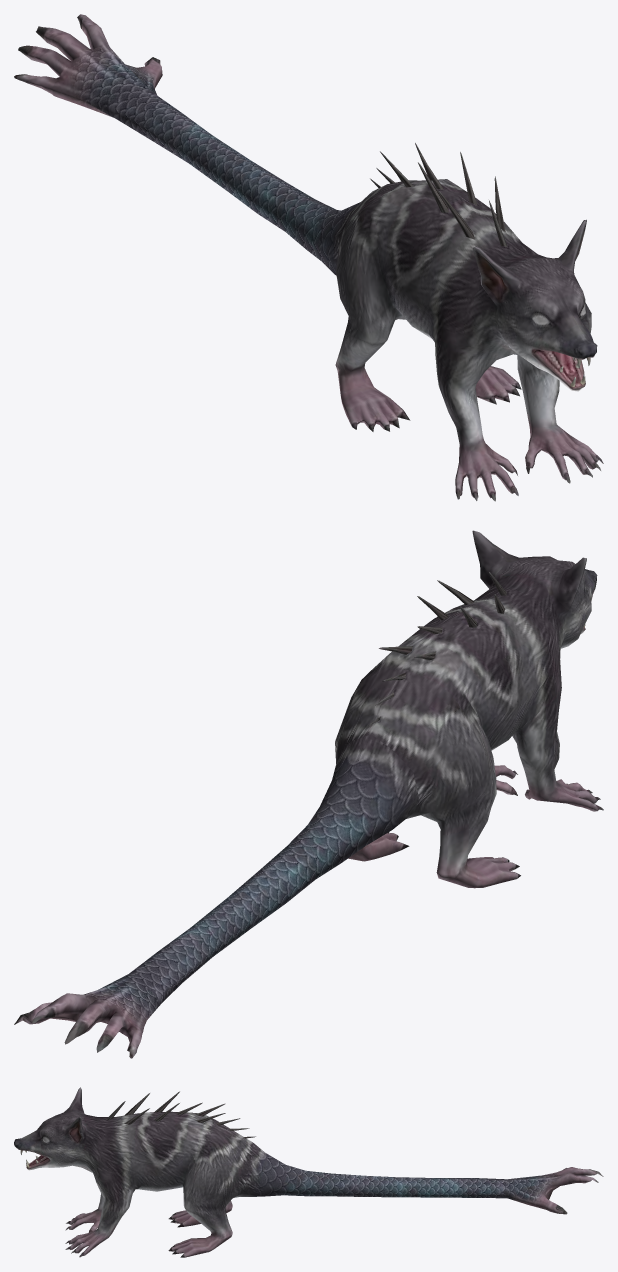
File: 179-ahuizotl.glb
3 renders of one model, top to bottom at view 1: azimuth 30°, elevation 25°; view 2: azimuth 150°, elevation 25°; view 3: azimuth 270°, elevation 25°, orthographic. The views are drawn at different scales.
Bounding box in the file's own units: 1.37 × 2.03 × 7.69.
1 material, 1 textured.
